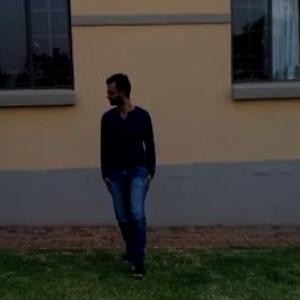follow: (89, 62, 157, 299)
